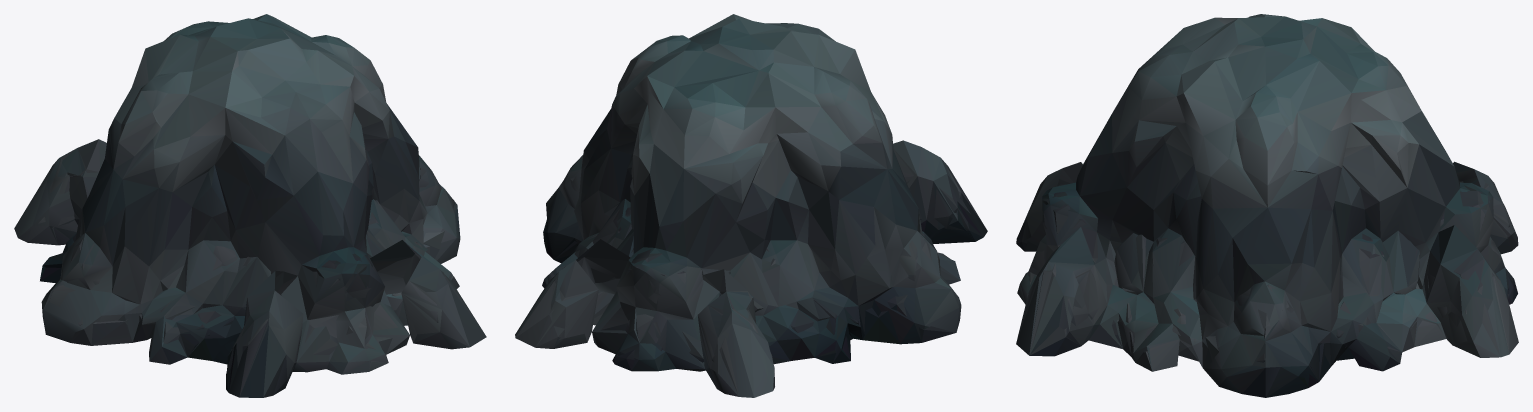
The picture shows the model from 3 angles, left to right: view 1: azimuth 30°, elevation 25°; view 2: azimuth 150°, elevation 25°; view 3: azimuth 270°, elevation 25°; orthographic projection. The views are drawn at different scales.
Visible parts, largest first — view 1: output_unwrapped; view 2: output_unwrapped; view 3: output_unwrapped.
Boxes of the visible parts, left/top/right/bottom form: output_unwrapped: left=14, top=14, right=486, bottom=397; output_unwrapped: left=515, top=14, right=987, bottom=397; output_unwrapped: left=1016, top=14, right=1518, bottom=397.
Bounding box in the file's own units: 1.89 × 1.1 × 1.9.
